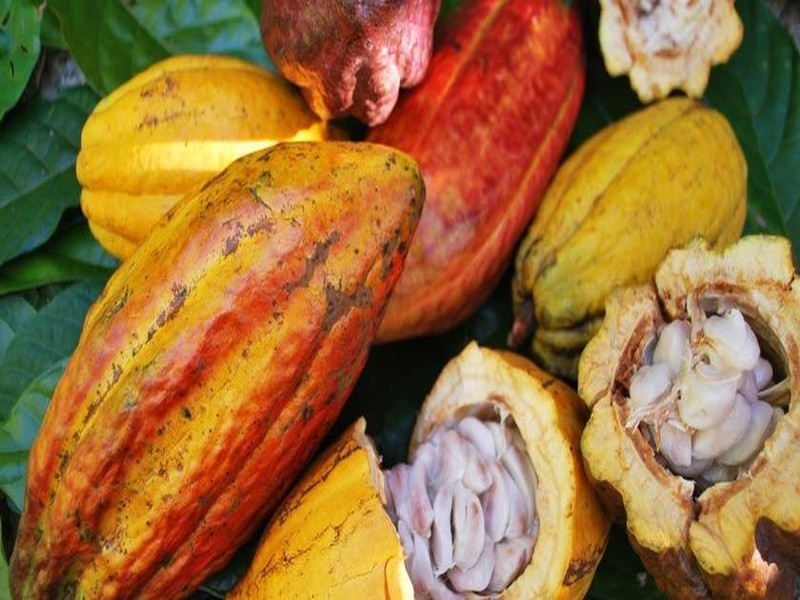Cacaopod: (47, 141, 401, 600)
